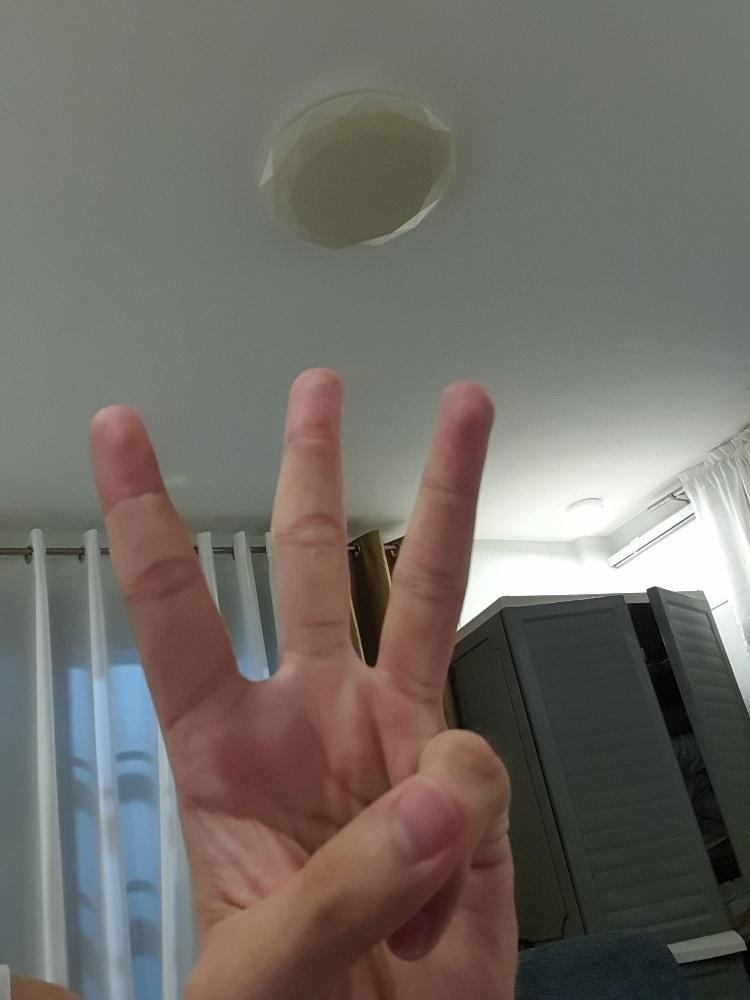w: (84, 362, 524, 999)
